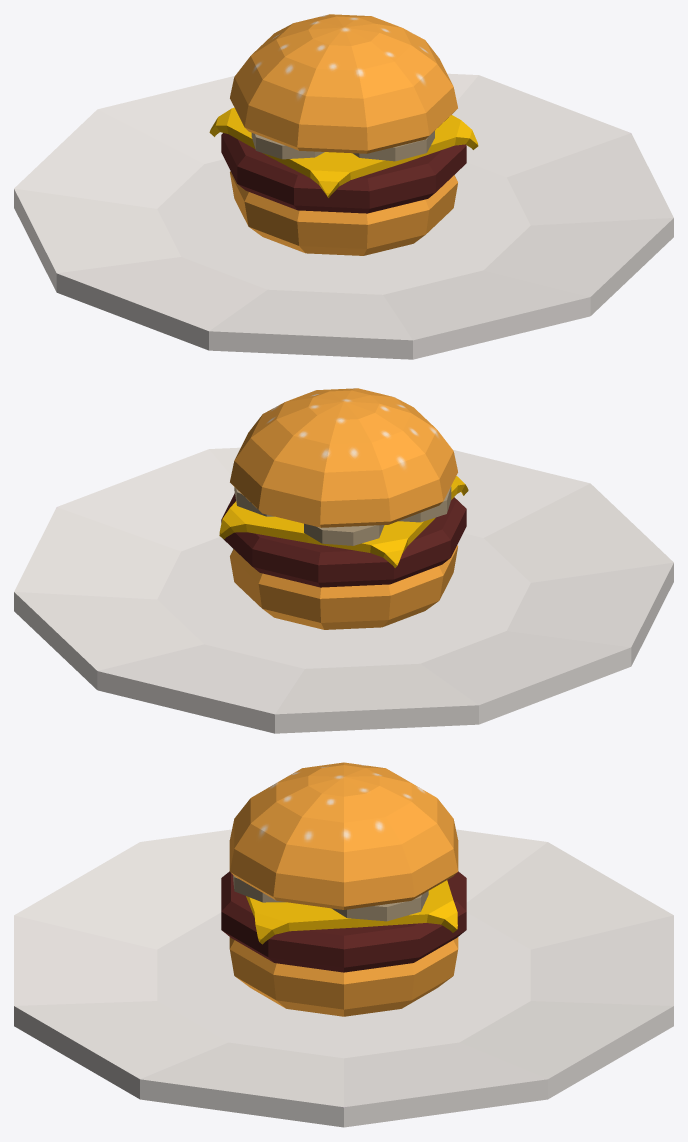
File: burger.fbx
3 views of the same model, one above another, from view 1: azimuth 30°, elevation 25°; view 2: azimuth 150°, elevation 25°; view 3: azimuth 270°, elevation 25° (orthographic). The views are drawn at different scales.
Visible parts, largest first — view 1: burger; view 2: burger; view 3: burger.
Part boxes in pixels (x1,y1,x2,y2): burger: (14, 14, 673, 359); burger: (14, 388, 673, 733); burger: (14, 762, 673, 1127).
Bounding box in the file's own units: 2.96 × 1.09 × 2.82.
